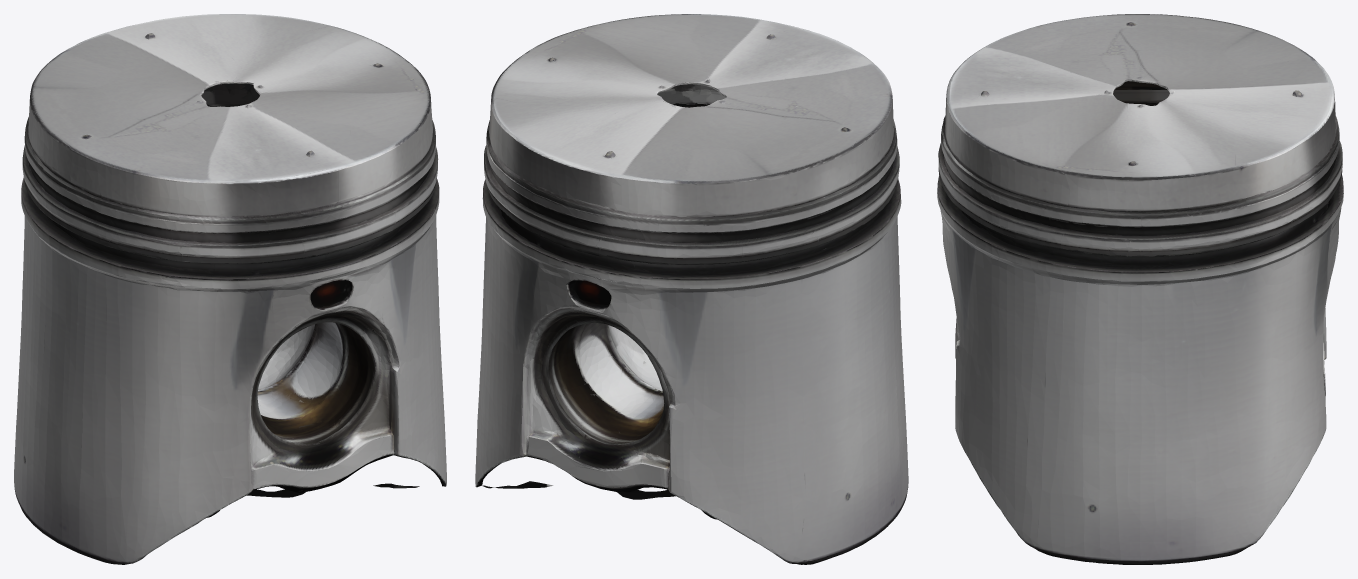
3 renders of one model, left to right at view 1: azimuth 30°, elevation 25°; view 2: azimuth 150°, elevation 25°; view 3: azimuth 270°, elevation 25°, orthographic. The views are drawn at different scales.
Parts seen in each view (by area): view 1: world; view 2: world; view 3: world.
Boxes of the visible parts, left/top/right/bottom form: world: left=14, top=14, right=446, bottom=564; world: left=475, top=14, right=908, bottom=564; world: left=937, top=14, right=1343, bottom=564.
Size of the model in its own units: 0.8455 by 0.8673 by 0.8194.
1 material, 1 textured.
